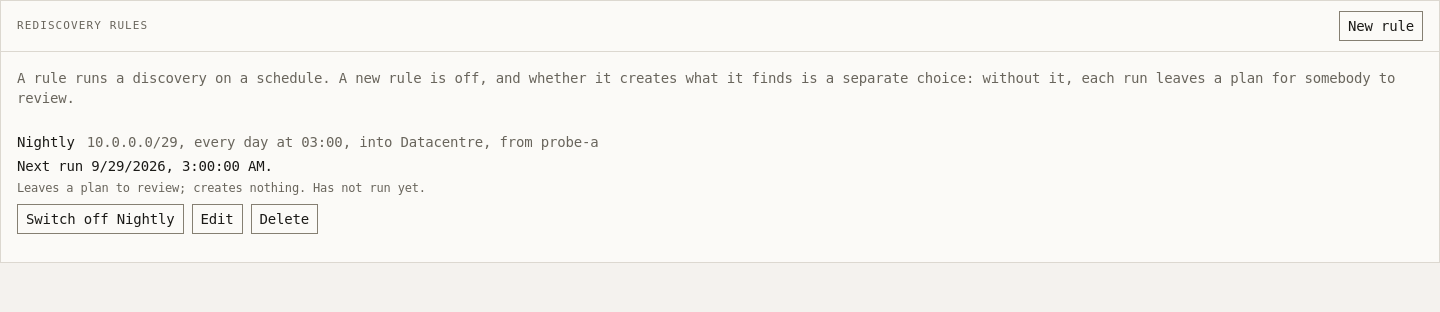
Test: a refused rule change, with the core’s id (U-59) › says the id after a refused switch, in the panel’s region
Expected: the button "New rule" is shown, [1339,11,1423,41]
Click the button "Switch off Nightly": (100, 219) [17,204,184,234]
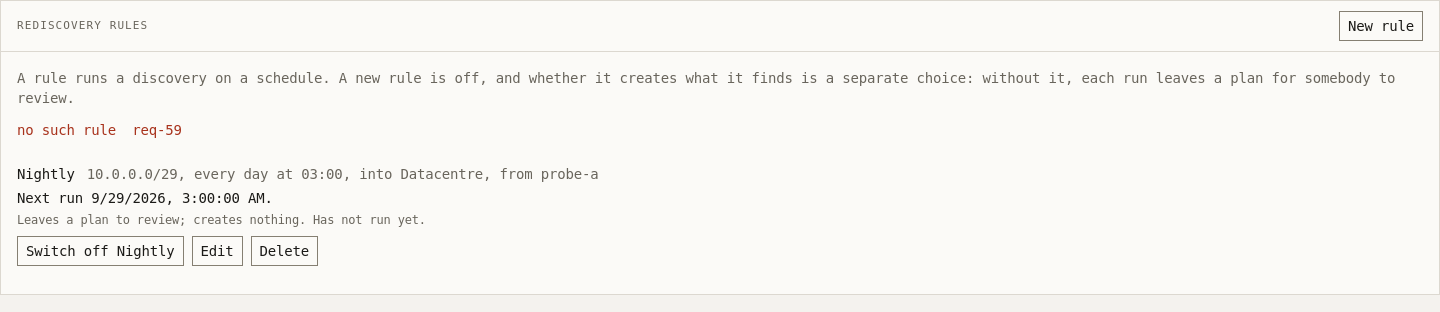
Expected: the message reads "no such rule req-59", [17,122,182,138]
Expected: the text with class "font-mono" reads "req-59", [132,122,182,138]
